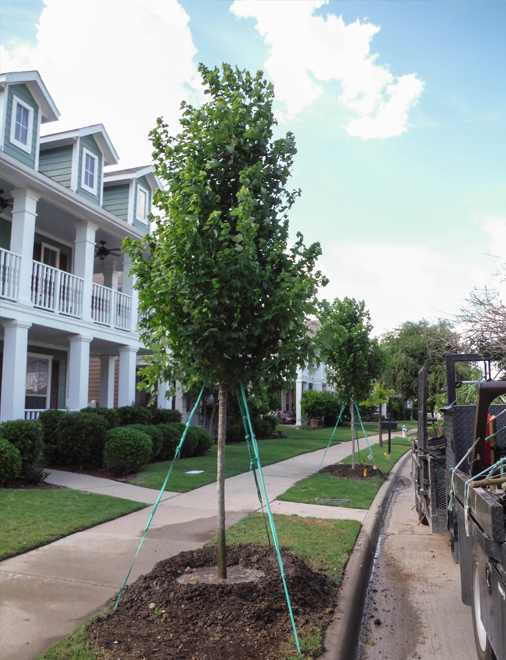bush: (1, 413, 203, 465)
tree: (124, 57, 312, 592), (303, 290, 379, 466)
